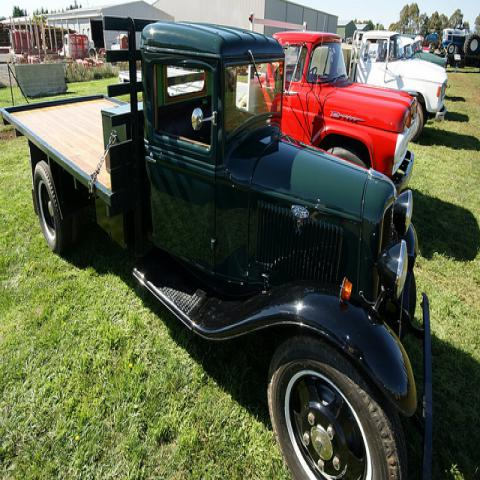truck: (1, 17, 420, 474), (236, 31, 419, 196), (346, 30, 452, 134), (404, 34, 448, 67)
